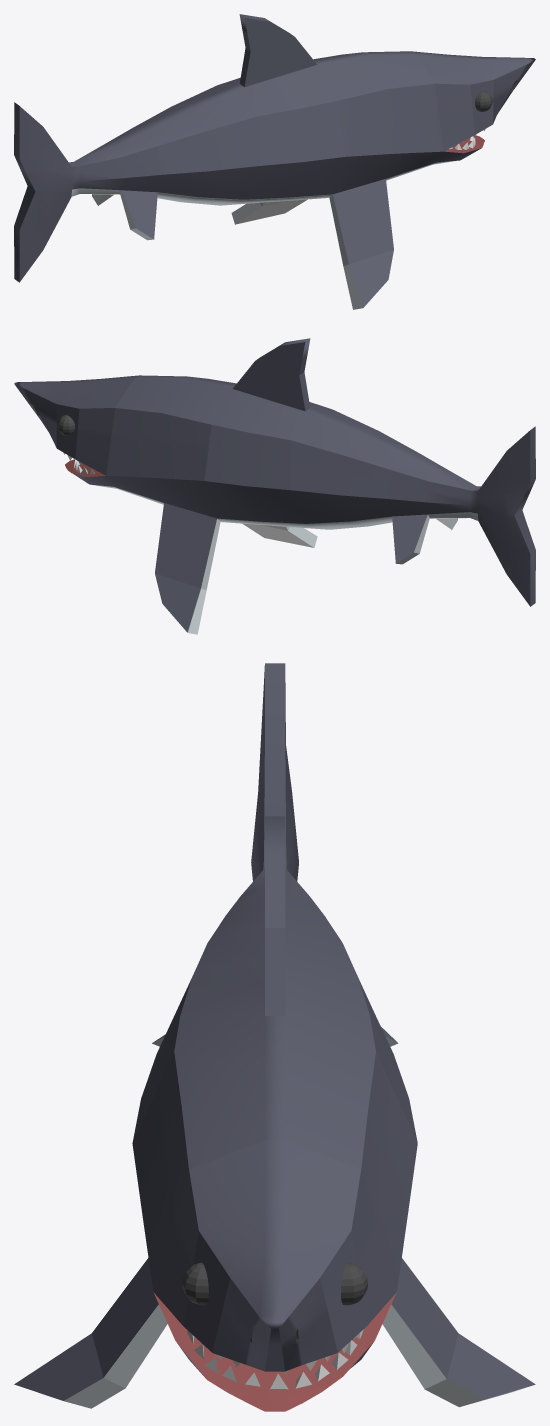
File: Shark 2.fbx
3 renders of one model, top to bottom at view 1: azimuth 30°, elevation 25°; view 2: azimuth 150°, elevation 25°; view 3: azimuth 270°, elevation 25°, orthographic. The views are drawn at different scales.
Visible parts, largest first — view 1: Shark; view 2: Shark; view 3: Shark.
Part boxes in pixels (x1=…): Shark: x1=14, y1=14, x2=535, y2=309; Shark: x1=14, y1=338, x2=535, y2=634; Shark: x1=14, y1=663, x2=535, y2=1411.
Bounding box in the file's own units: 6.65 × 3.24 × 2.91.
